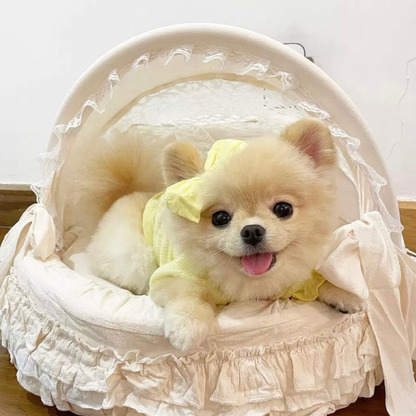Pomeranian: (42, 100, 385, 347)
